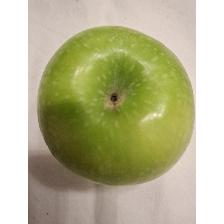Apfel: (34, 22, 196, 188)
